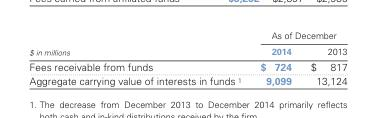table: (28, 29, 346, 87)
table column: (28, 29, 250, 87), (250, 29, 300, 87), (300, 29, 346, 87)
table column header: (28, 29, 346, 58)
table row: (28, 43, 346, 58), (28, 58, 346, 73), (28, 29, 346, 43), (28, 73, 346, 87)
table spanning cell: (28, 29, 250, 58), (250, 29, 346, 43)
